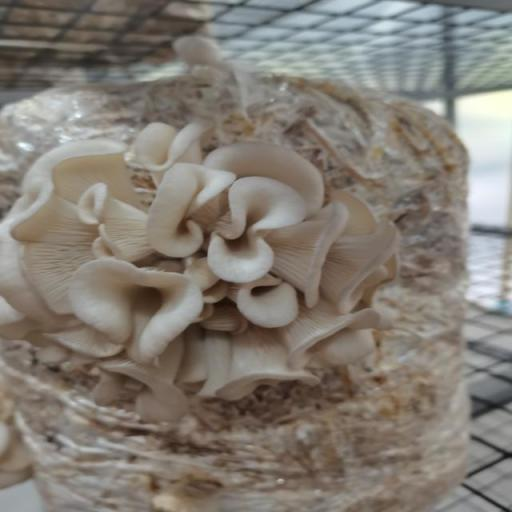White Oyster Mushroom: (0, 112, 424, 412)
